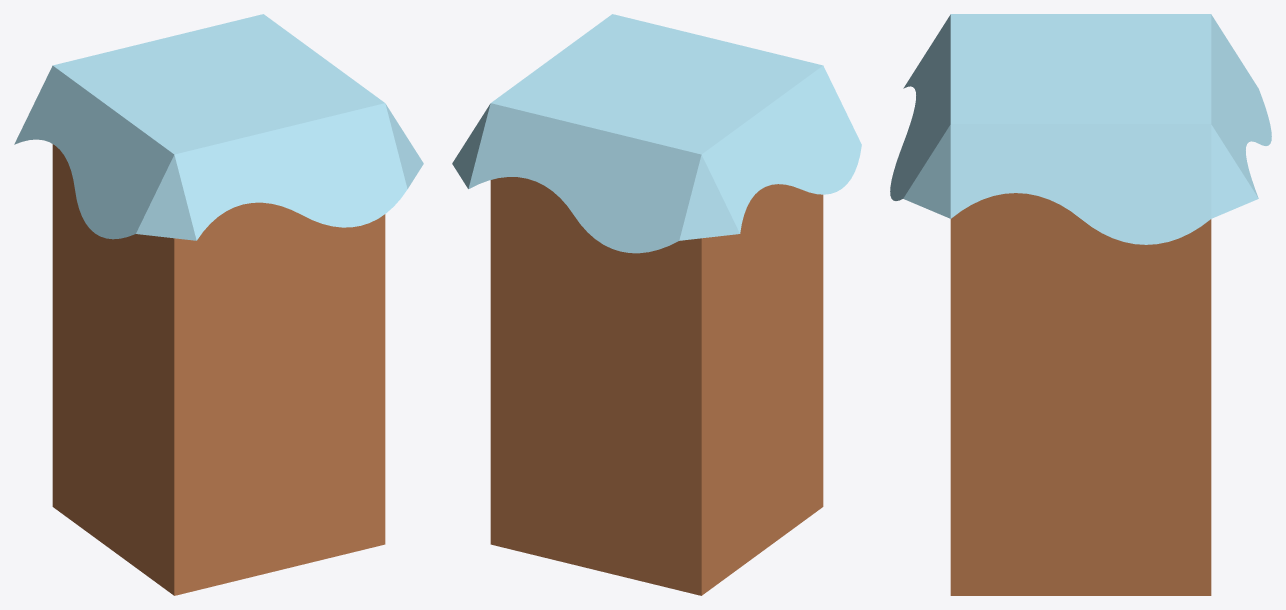
The model's file is blockSnowQuarter.fbx.
The picture shows the model from 3 angles, left to right: view 1: azimuth 30°, elevation 25°; view 2: azimuth 150°, elevation 25°; view 3: azimuth 270°, elevation 25°; orthographic projection. The views are drawn at different scales.
Visible parts, largest first — view 1: blockSnowQuarter; view 2: blockSnowQuarter; view 3: blockSnowQuarter.
Boxes of the visible parts, box(x1,y1,x2,y2) form: blockSnowQuarter: box(14, 14, 423, 595); blockSnowQuarter: box(452, 14, 861, 595); blockSnowQuarter: box(890, 14, 1271, 595).
Size of the model in its own units: 7.33 by 10 by 7.33.
